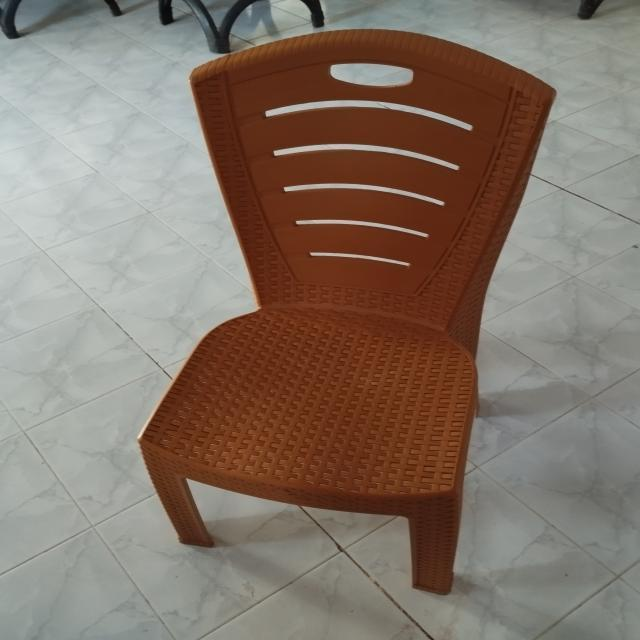chair: (137, 24, 562, 594)
